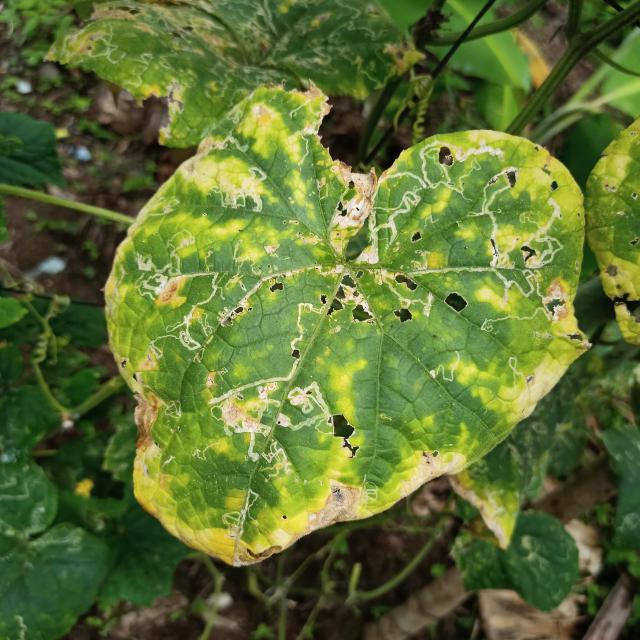disease_cucumber: (85, 89, 588, 571)
